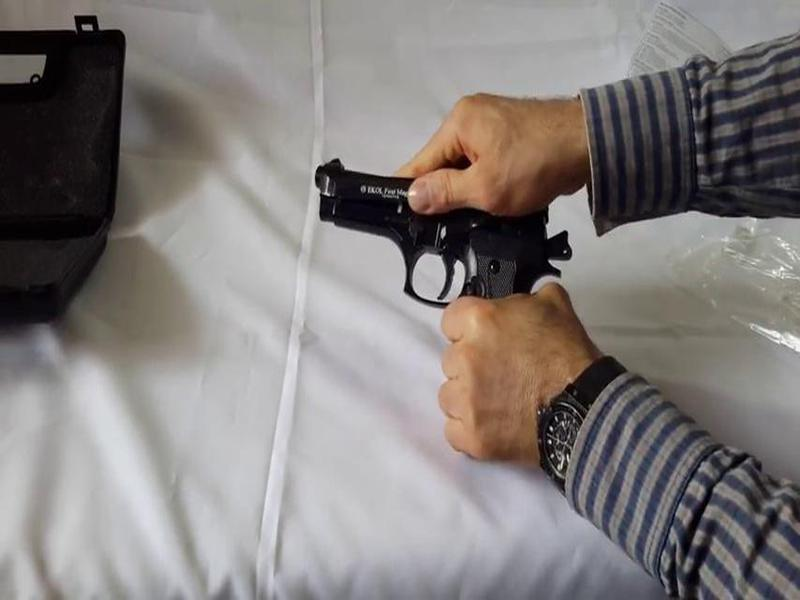Pistola: (297, 148, 582, 378)
